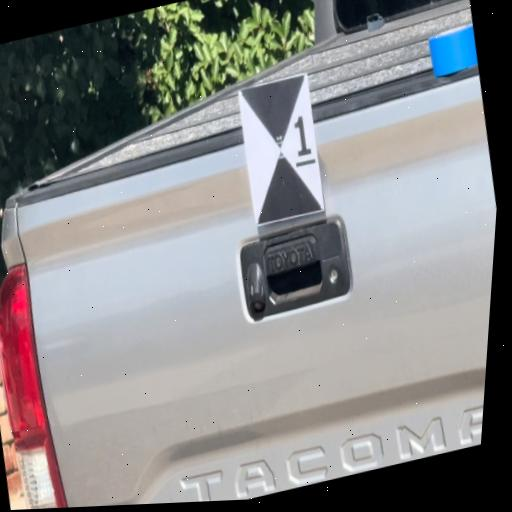target1: (229, 71, 334, 229)
